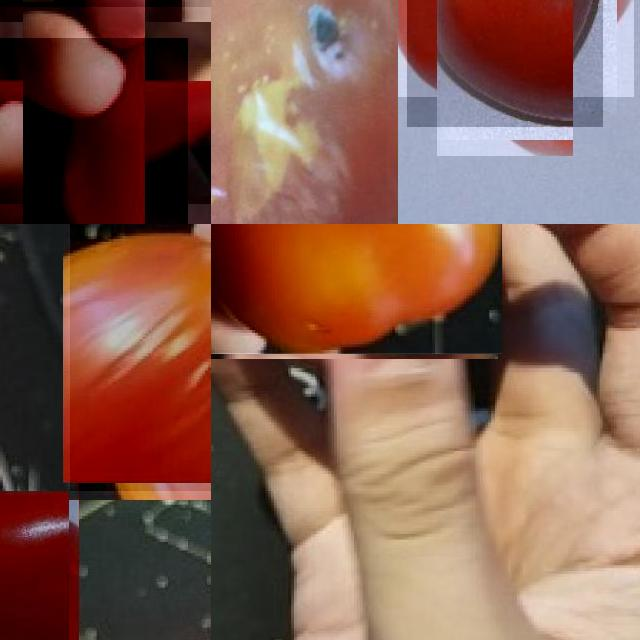Fresh Tomato: (211, 224, 502, 353), (0, 38, 188, 224), (406, 0, 603, 126), (0, 495, 74, 640)
Rotten Tomato: (211, 0, 387, 224), (70, 224, 211, 491)
